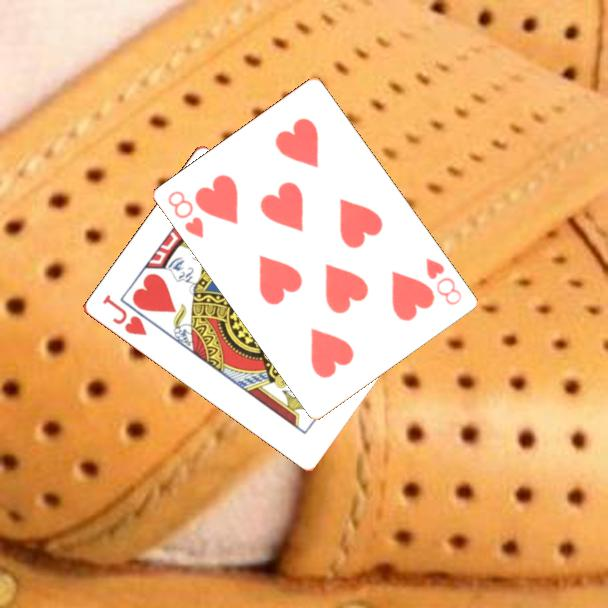h08: (422, 254, 465, 309), (165, 187, 207, 241)
h11: (98, 291, 150, 339)
